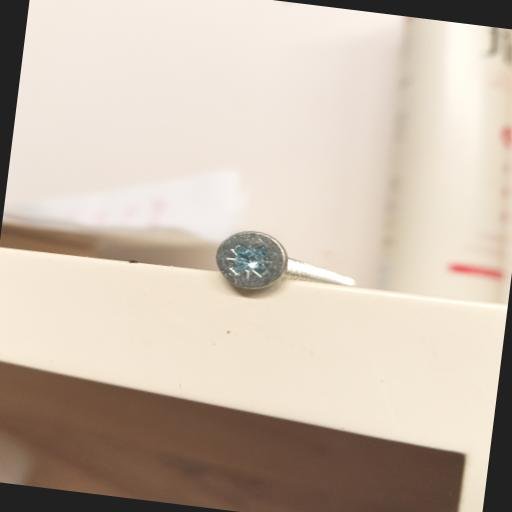Pozidriv: (204, 218, 298, 302)
